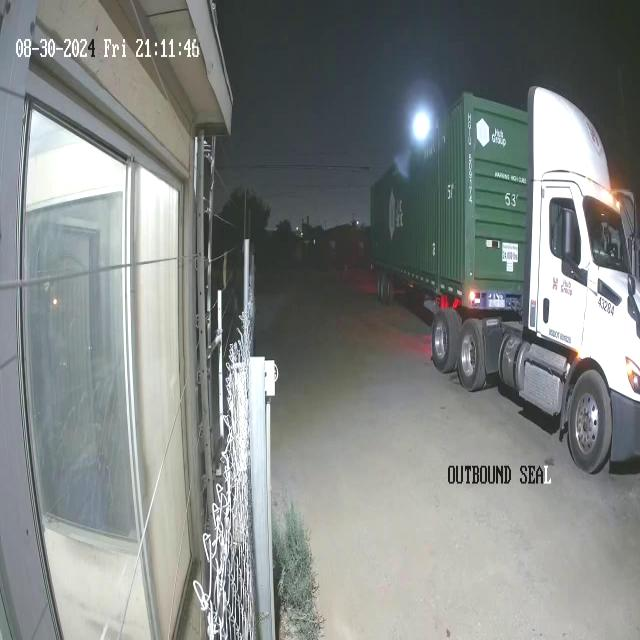CONTAINER: (368, 84, 530, 313)
